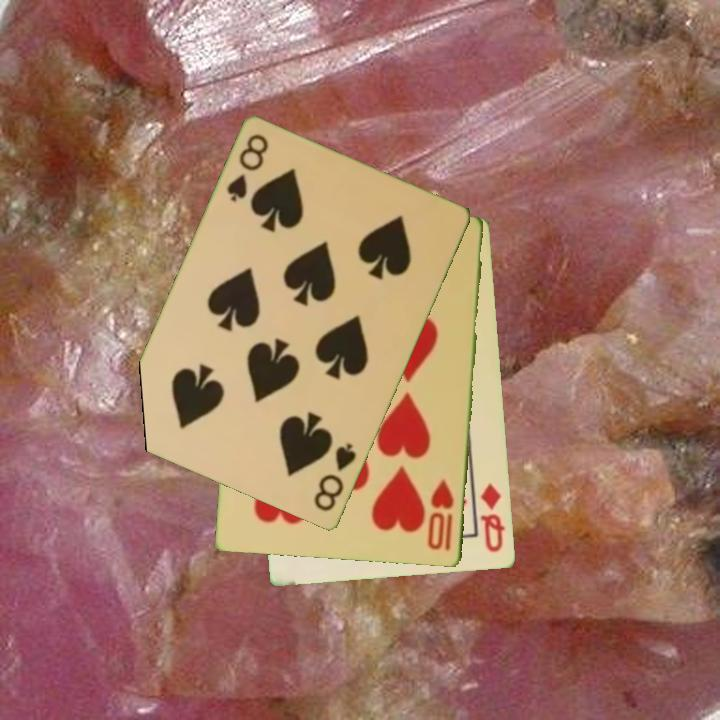10h: (424, 476, 458, 554)
8s: (310, 440, 360, 515), (223, 131, 272, 206)
Qd: (477, 480, 509, 555)
